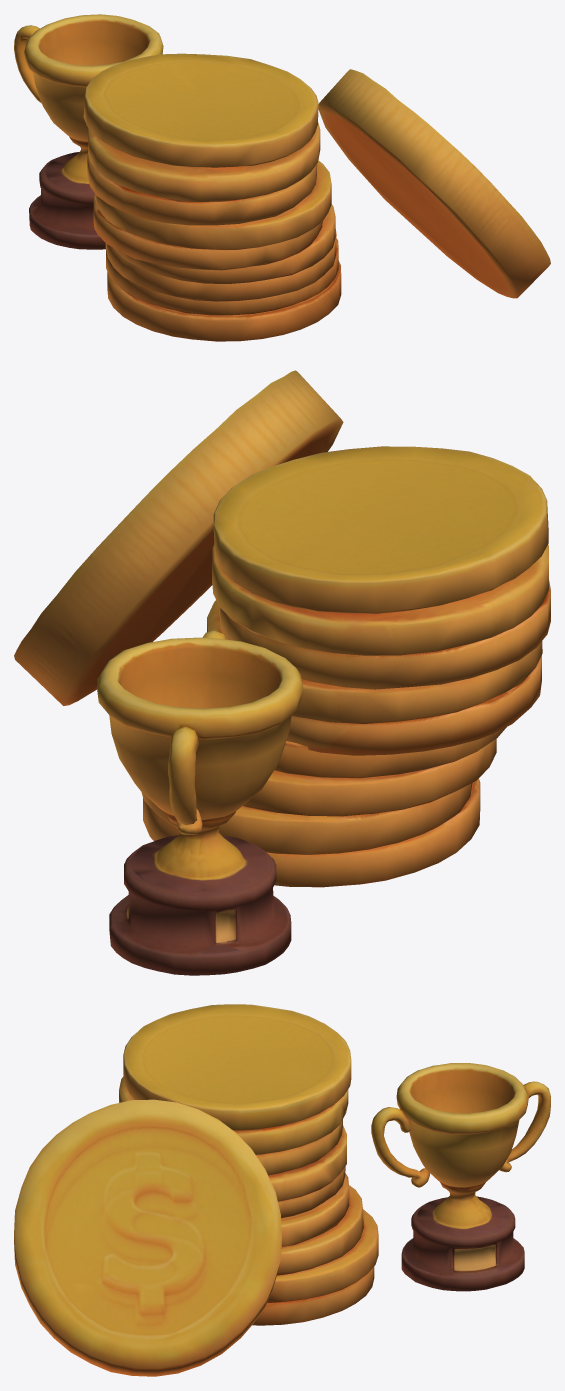
Rendered from tile33.glb.
The picture shows the model from 3 angles, top to bottom: view 1: azimuth 30°, elevation 25°; view 2: azimuth 150°, elevation 25°; view 3: azimuth 270°, elevation 25°; orthographic projection. The views are drawn at different scales.
Parts seen in each view (by area): view 1: tripo_node_d9fd3050-c78b-4fbf-b603-d78fba3371e4; view 2: tripo_node_d9fd3050-c78b-4fbf-b603-d78fba3371e4; view 3: tripo_node_d9fd3050-c78b-4fbf-b603-d78fba3371e4.
Boxes of the visible parts, x1,y1,x2,y2 form: tripo_node_d9fd3050-c78b-4fbf-b603-d78fba3371e4: (14,14,550,341); tripo_node_d9fd3050-c78b-4fbf-b603-d78fba3371e4: (14,370,550,975); tripo_node_d9fd3050-c78b-4fbf-b603-d78fba3371e4: (14,1004,550,1376).
Bounding box in the file's own units: 0.7793 × 0.459 × 0.998.
1 material, 1 textured.
